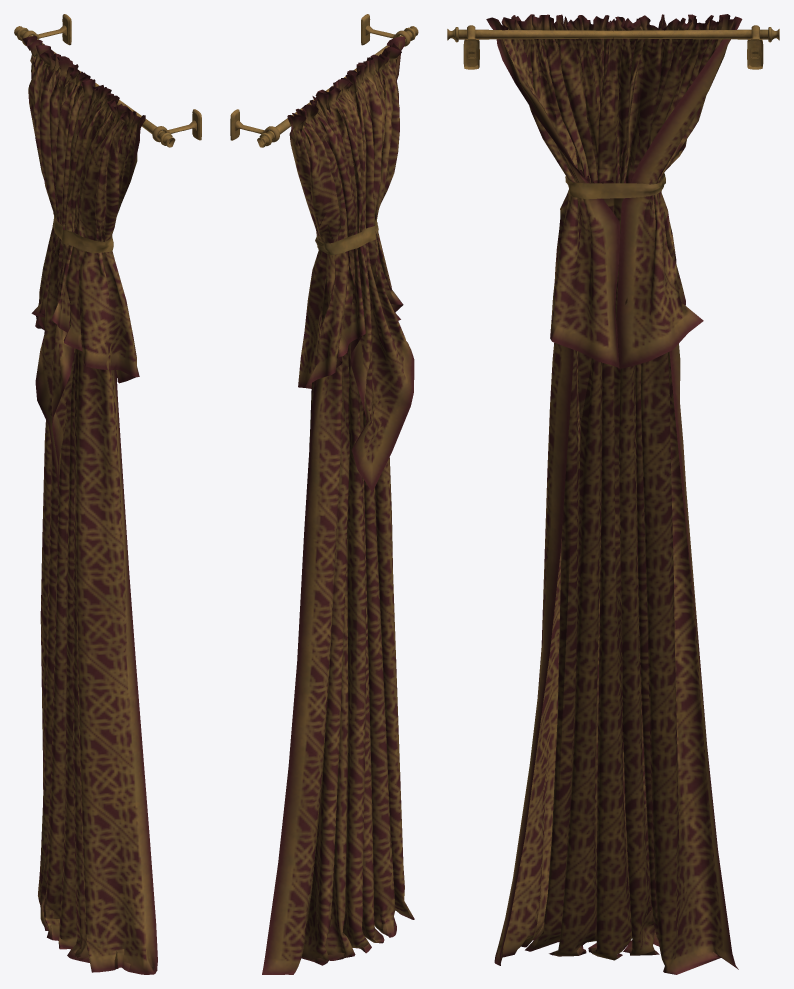
Rendered from SM_CurtainBigSide_Guard.fbx.
The picture shows the model from 3 angles, left to right: view 1: azimuth 30°, elevation 25°; view 2: azimuth 150°, elevation 25°; view 3: azimuth 270°, elevation 25°; orthographic projection. The views are drawn at different scales.
Visible parts, largest first — view 1: SM_CurtainBigSide_Guard_LOD0; view 2: SM_CurtainBigSide_Guard_LOD0; view 3: SM_CurtainBigSide_Guard_LOD0.
Boxes of the visible parts, x1,y1,x2,y2 form: SM_CurtainBigSide_Guard_LOD0: [14, 14, 201, 974]; SM_CurtainBigSide_Guard_LOD0: [230, 14, 418, 974]; SM_CurtainBigSide_Guard_LOD0: [447, 14, 779, 974].
Size of the model in its own units: 67.32 by 183 by 571.
1 material, 1 textured.
